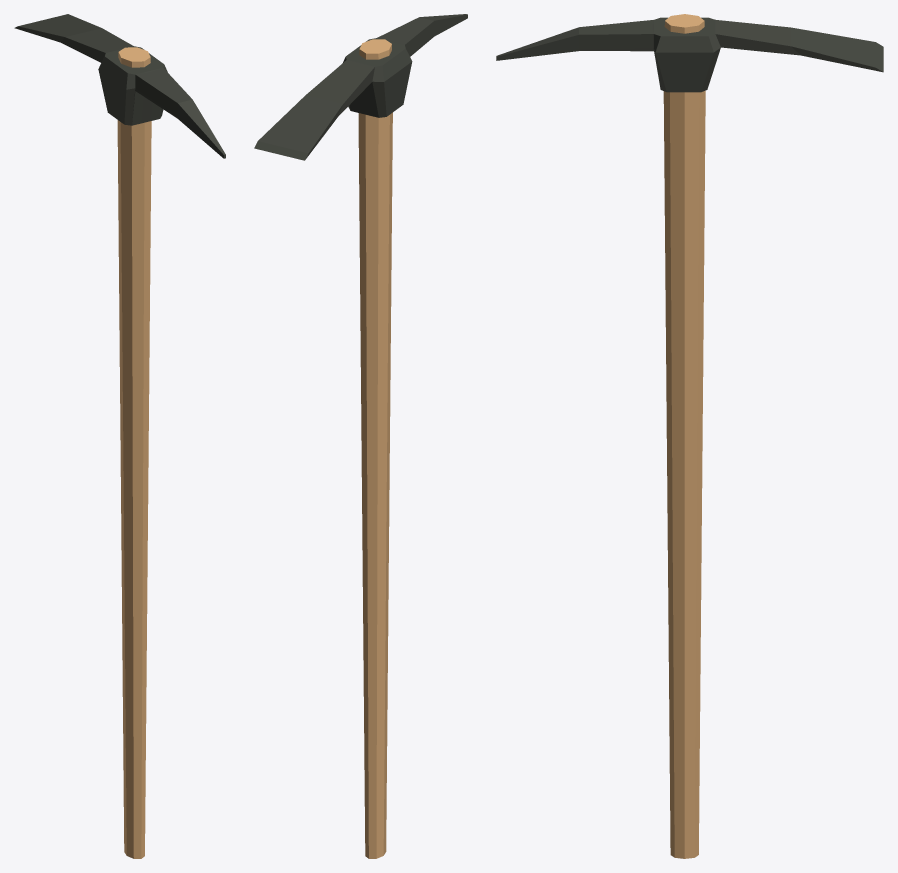
The model's file is PickaxePractice.fbx.
3 renders of one model, left to right at view 1: azimuth 30°, elevation 25°; view 2: azimuth 150°, elevation 25°; view 3: azimuth 270°, elevation 25°, orthographic. The views are drawn at different scales.
Parts seen in each view (by area): view 1: Handle, Pick; view 2: Handle, Pick; view 3: Handle, Pick.
Boxes of the visible parts, <box> form: Handle: <box>117,47,151,858</box>; Pick: <box>14,14,225,158</box>; Handle: <box>358,39,392,858</box>; Pick: <box>254,14,467,160</box>; Handle: <box>663,14,705,858</box>; Pick: <box>496,17,883,92</box>.
Size of the model in its own units: 14.77 by 224 by 94.49.
